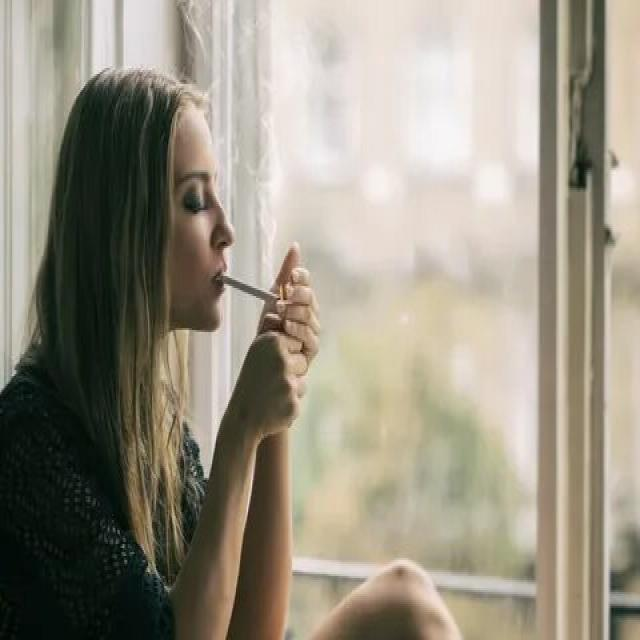smoke: (219, 272, 292, 312)
